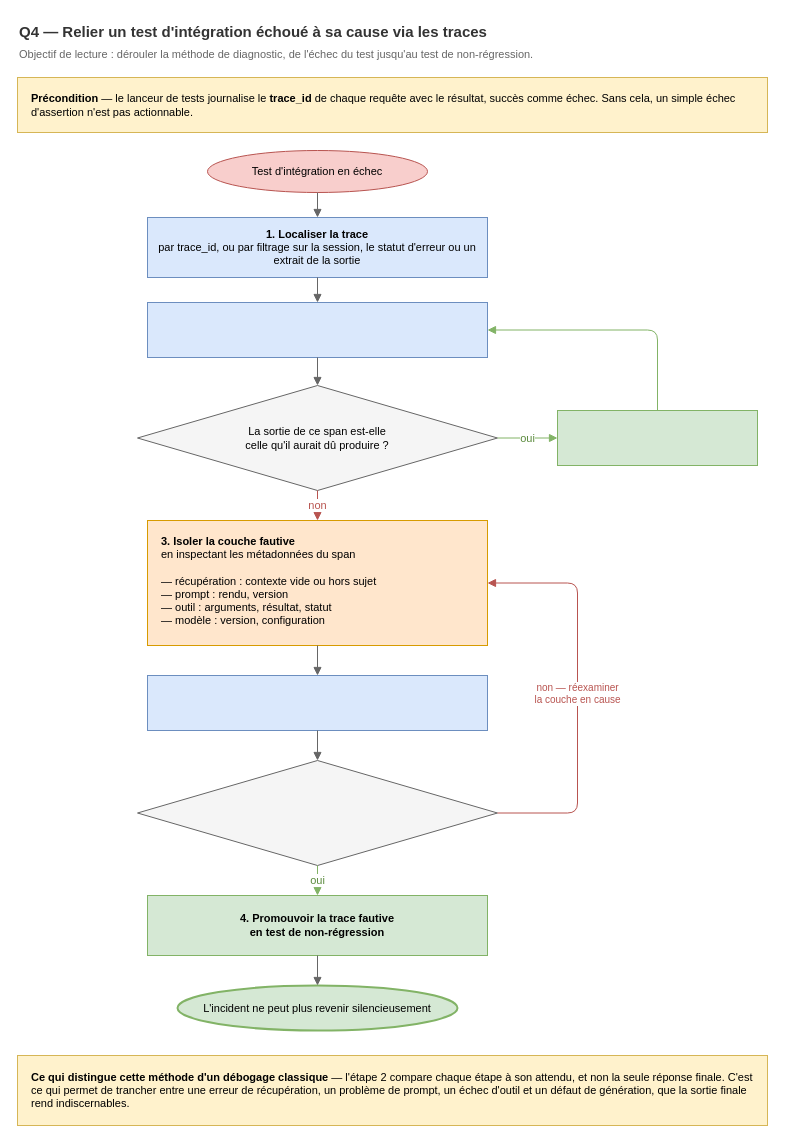
Some shapes in this 785 by 1143 pixel diagram are drawn without their labels. Here are the shapes that lost their labels. From the top down, the centre of each, then its label:
the point at 317,330: 2. Parcourir l'arbre de spans dans l'ordre chronologique
the point at 657,438: Passer au span suivant
the point at 317,702: Corriger, puis rejouer le scénario et comparer les traces avant et après
the point at 317,813: La trace est-elle conforme après le correctif ?
